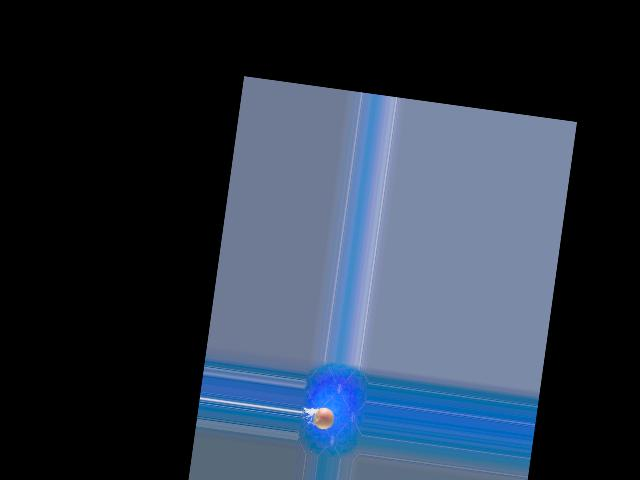tomato: (312, 406, 335, 431)
